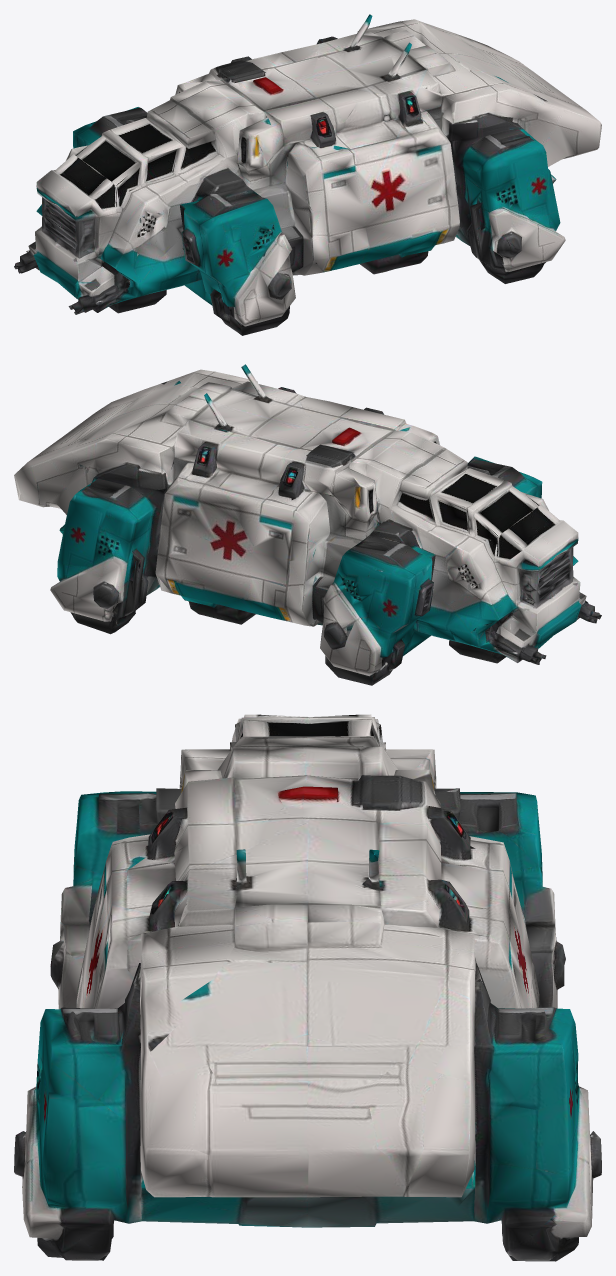
Rendered from trauma_atlus.glb.
3 views of the same model, one above another, from view 1: azimuth 30°, elevation 25°; view 2: azimuth 150°, elevation 25°; view 3: azimuth 270°, elevation 25° (orthographic). The views are drawn at different scales.
Visible parts, largest first — view 1: mesh_node; view 2: mesh_node; view 3: mesh_node.
Part boxes in pixels (x1,y1,x2,y2): mesh_node: (14,14,601,335); mesh_node: (14,364,601,685); mesh_node: (14,714,601,1261).
Size of the model in its own units: 1.9 by 0.741 by 1.12.
1 material, 1 textured.
